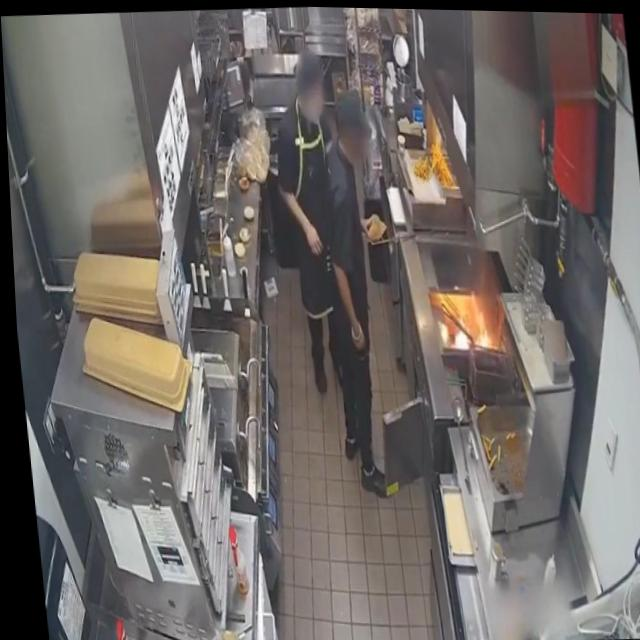fire: (441, 302, 490, 351)
